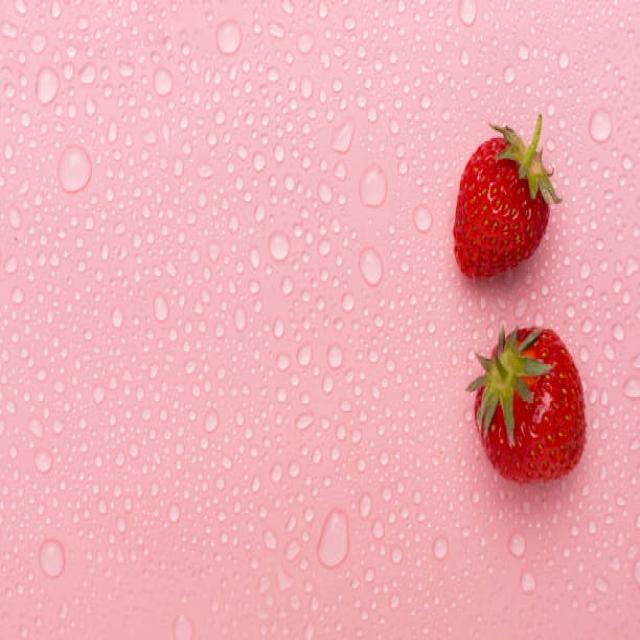Healthy Fruit: (475, 327, 585, 482), (454, 135, 548, 282)
